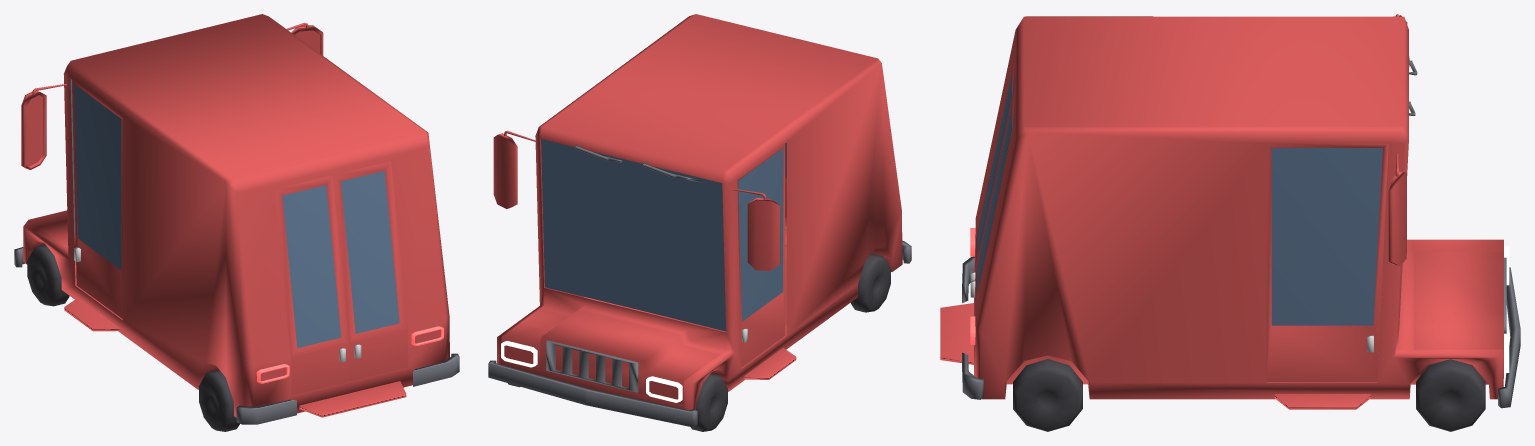
The model's file is cv-transporter.glb.
3 views of the same model, side by side, from view 1: azimuth 30°, elevation 25°; view 2: azimuth 150°, elevation 25°; view 3: azimuth 270°, elevation 25° (orthographic). The views are drawn at different scales.
Visible parts, largest first — view 1: CarMesh, Window.2, Window.3, Window.4, ID363, ID336, ID309, BumperRear, WheelFL, StepBac, WheelFL.2, Mirror (+3 smaller); view 2: CarMesh, WIndowFront.1, ID390, Window.2, BumperFront, ID309, ID43, Grille, ID70, WheelFL, WheelFL.2, StepL (+2 smaller); view 3: CarMesh, Window, ID390, ID282, WheelRR, WheelFR, StepBac, ID70, BumperFront, StepR, BumperRear, Window.3 (+3 smaller).
Boxes of the visible parts, bbox=[...] form: CarMesh: bbox=[23, 14, 449, 417]; Window.2: bbox=[74, 84, 121, 270]; Window.3: bbox=[340, 170, 399, 333]; Window.4: bbox=[282, 185, 341, 348]; ID363: bbox=[274, 175, 349, 395]; ID336: bbox=[333, 161, 408, 381]; ID309: bbox=[72, 80, 122, 318]; BumperRear: bbox=[236, 353, 459, 424]; WheelFL: bbox=[199, 370, 239, 431]; StepBac: bbox=[299, 381, 406, 417]; WheelFL.2: bbox=[27, 244, 69, 306]; Mirror: bbox=[26, 95, 42, 166]; CarMesh: bbox=[497, 14, 902, 410]; WIndowFront.1: bbox=[541, 139, 726, 331]; ID390: bbox=[501, 310, 719, 404]; Window.2: bbox=[738, 148, 783, 321]; BumperFront: bbox=[488, 360, 697, 427]; ID309: bbox=[737, 144, 785, 367]; ID43: bbox=[747, 198, 780, 271]; Grille: bbox=[546, 340, 638, 392]; ID70: bbox=[493, 133, 517, 208]; WheelFL: bbox=[851, 253, 890, 312]; WheelFL.2: bbox=[690, 373, 727, 431]; StepL: bbox=[744, 348, 796, 379]; CarMesh: bbox=[974, 16, 1503, 399]; Window: bbox=[1271, 148, 1382, 325]; ID390: bbox=[1414, 239, 1503, 378]; ID282: bbox=[1266, 143, 1388, 381]; WheelRR: bbox=[1013, 359, 1082, 431]; WheelFR: bbox=[1416, 359, 1485, 431]; StepBac: bbox=[940, 303, 973, 364]; ID70: bbox=[1388, 171, 1406, 265]; BumperFront: bbox=[1498, 267, 1520, 408]; StepR: bbox=[1274, 394, 1370, 409]; BumperRear: bbox=[962, 256, 983, 399]; Window.3: bbox=[977, 105, 1012, 293].
Bounding box in the file's own units: 2.93 × 2.39 × 4.17.
